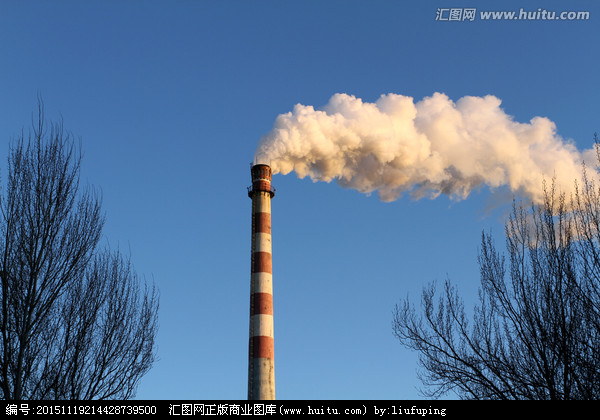dust: (232, 91, 531, 195)
